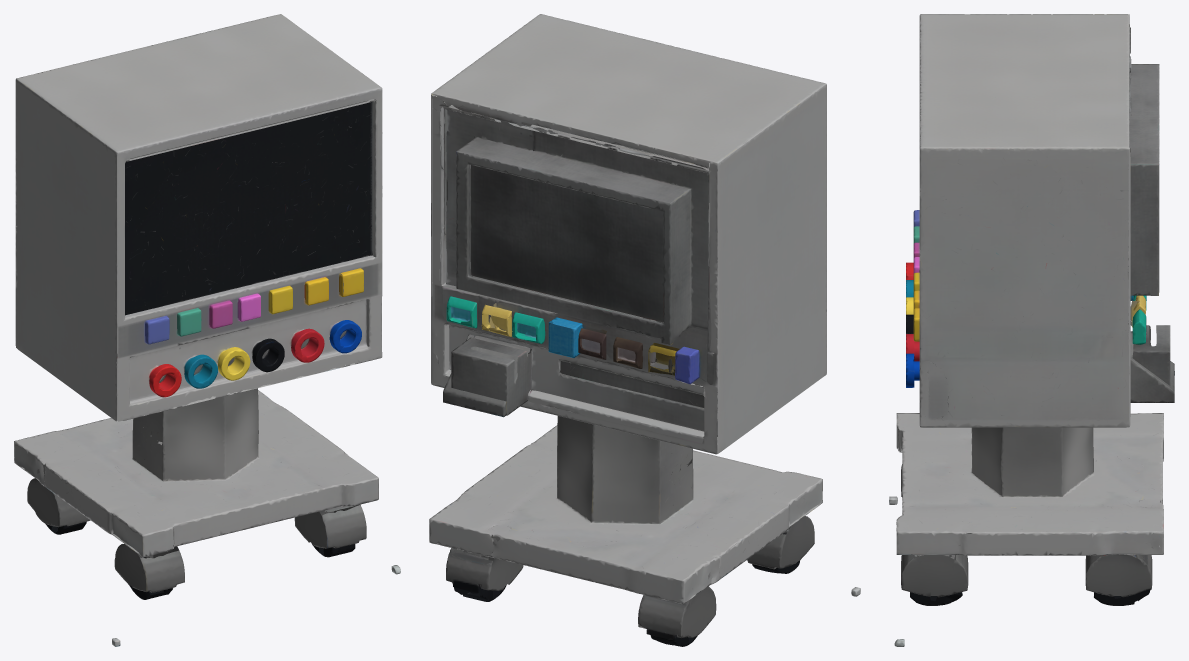
The model's file is ecg-cart.glb.
3 renders of one model, left to right at view 1: azimuth 30°, elevation 25°; view 2: azimuth 150°, elevation 25°; view 3: azimuth 270°, elevation 25°, orthographic. The views are drawn at different scales.
Visible parts, largest first — view 1: geometry_0; view 2: geometry_0; view 3: geometry_0.
Part boxes in pixels (box(x1,y1,x2,y2)): geometry_0: box(14, 14, 400, 646); geometry_0: box(429, 14, 860, 646); geometry_0: box(889, 14, 1174, 646).
Size of the model in its own units: 0.6298 by 1 by 0.5208.
1 material, 1 textured.
